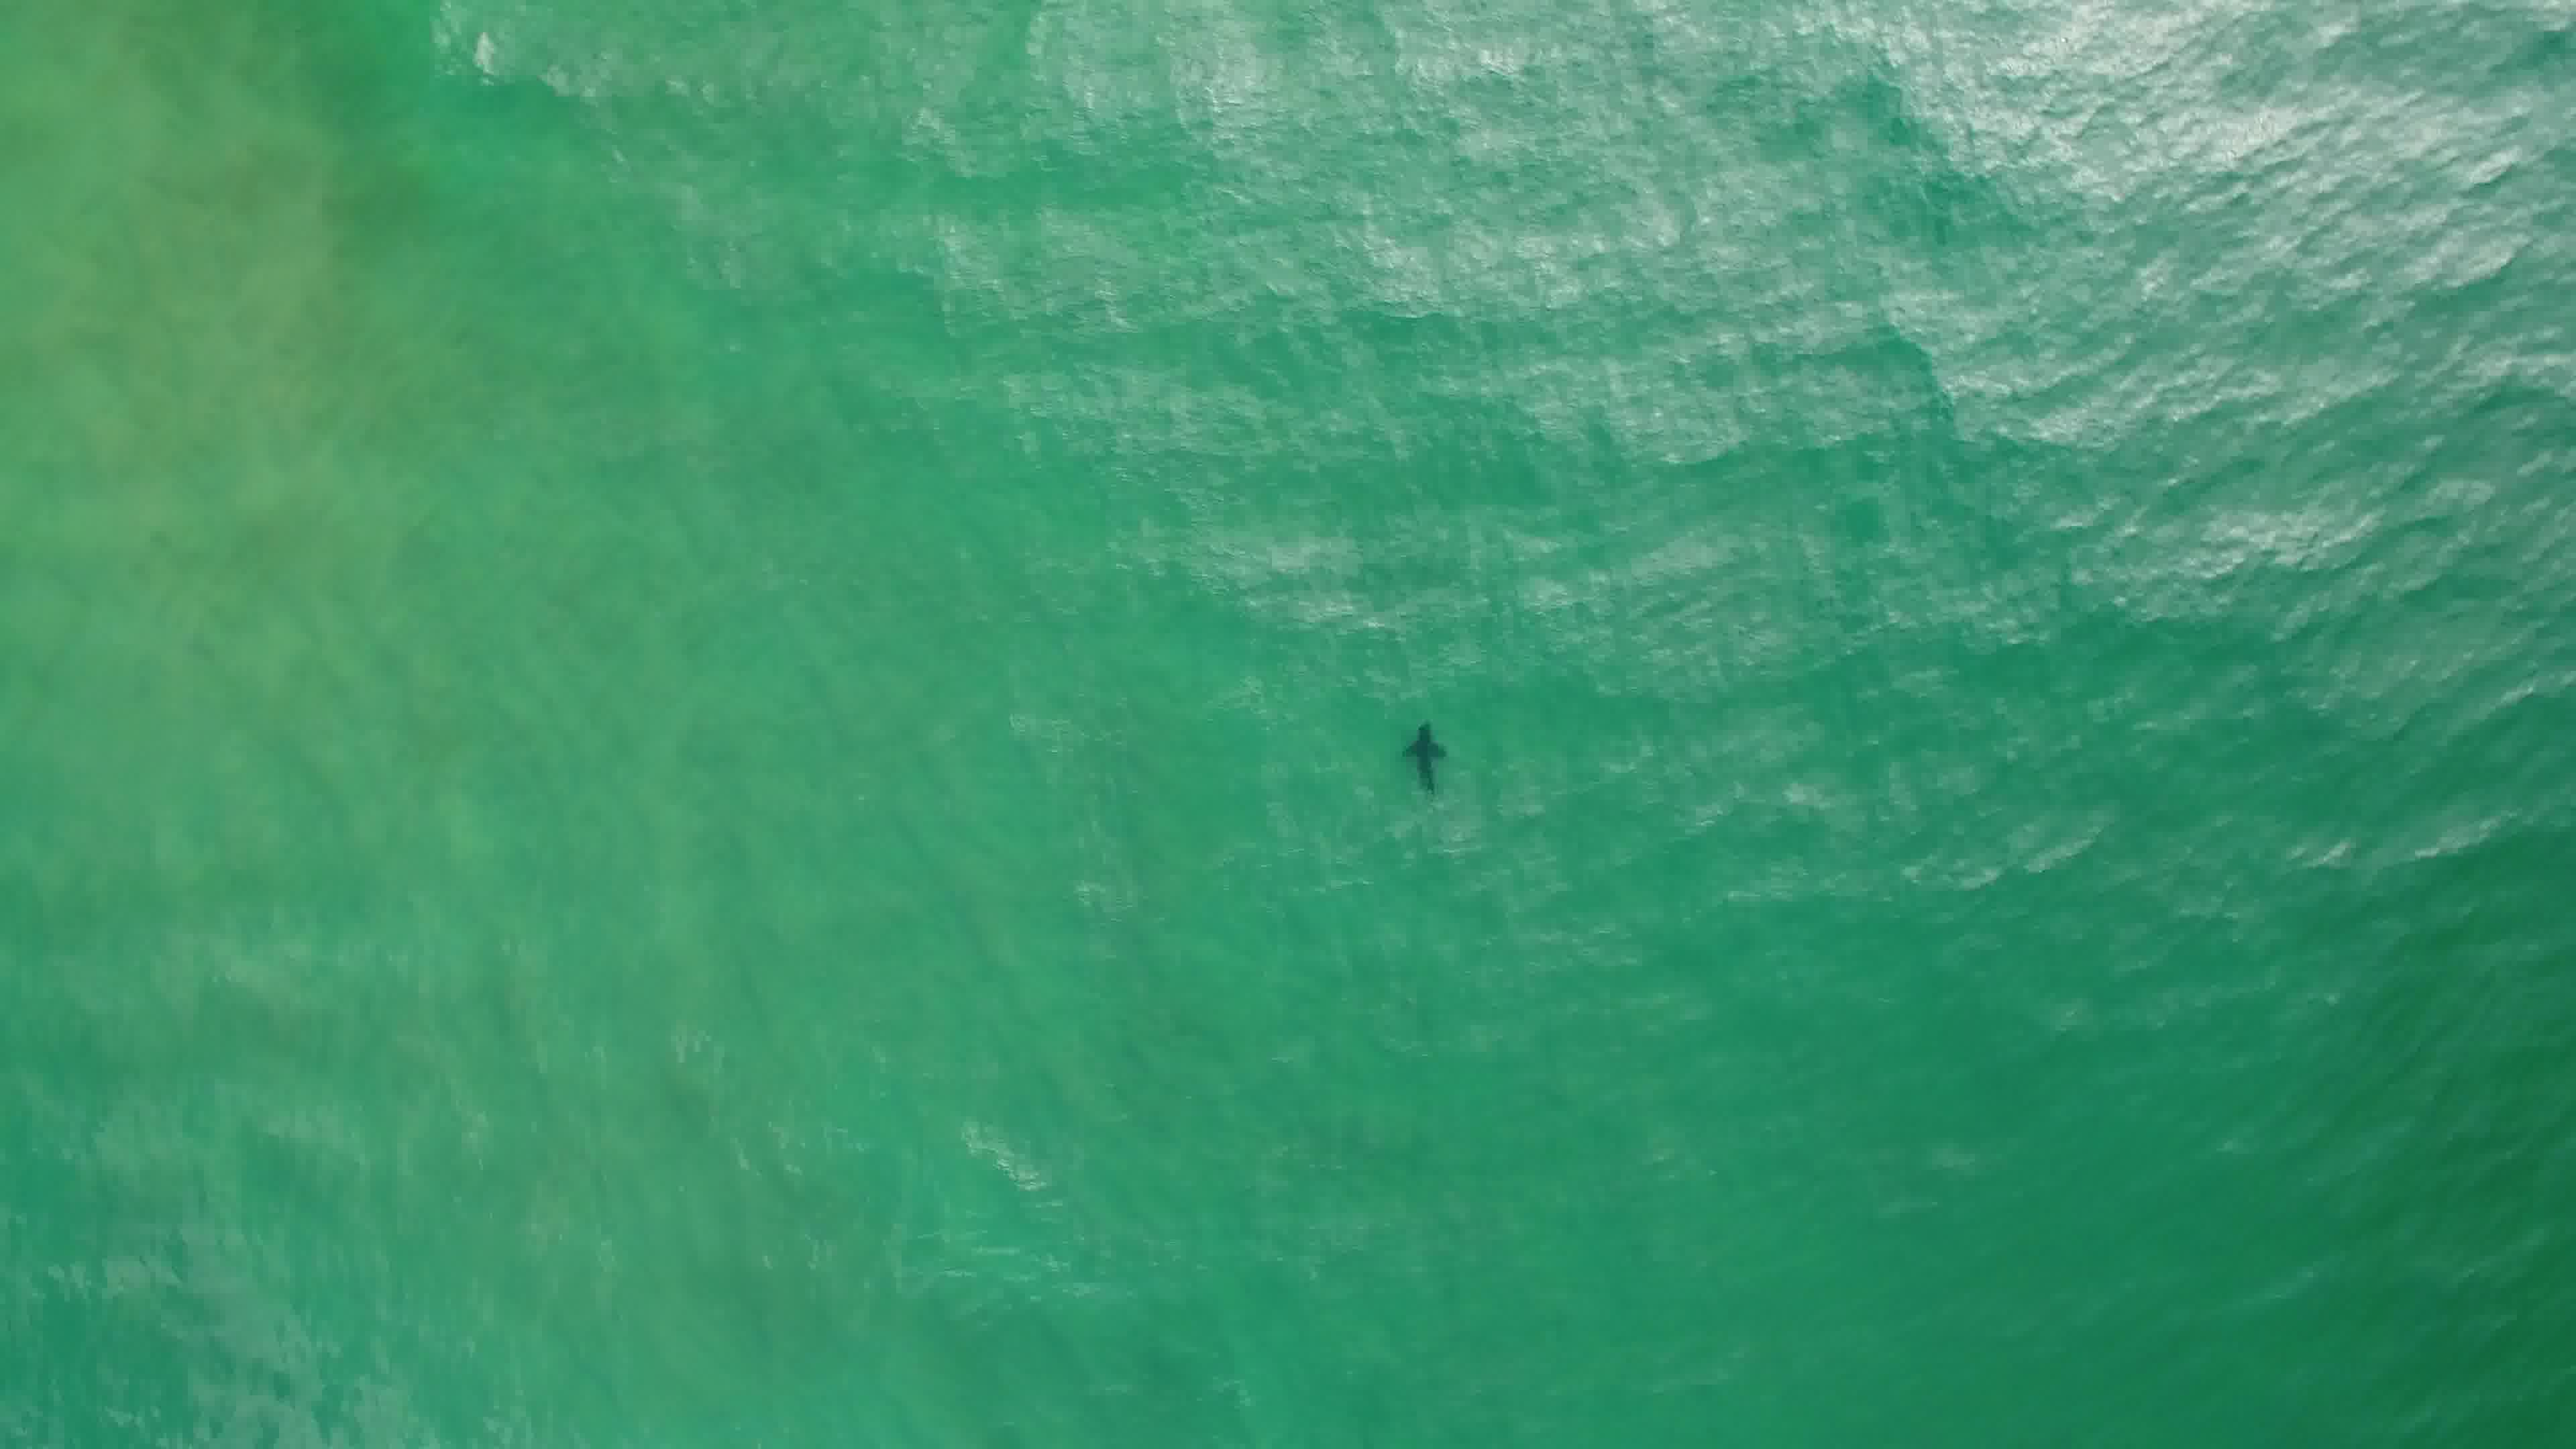shark: (1394, 715, 1454, 801)
